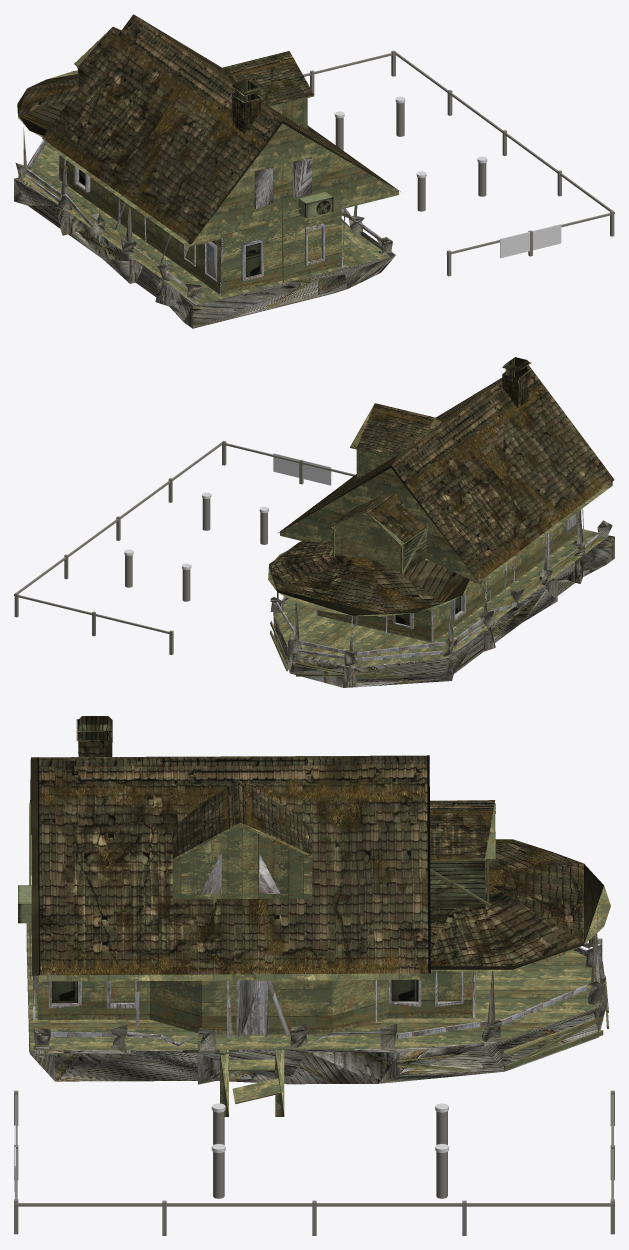
3 views of the same model, one above another, from view 1: azimuth 30°, elevation 25°; view 2: azimuth 150°, elevation 25°; view 3: azimuth 270°, elevation 25° (orthographic). The views are drawn at different scales.
Visible parts, largest first — view 1: dweller_building_training; view 2: dweller_building_training; view 3: dweller_building_training.
Part boxes in pixels (left/top/right/bottom): dweller_building_training: left=14, top=14, right=614, bottom=328; dweller_building_training: left=14, top=357, right=614, bottom=687; dweller_building_training: left=14, top=716, right=614, bottom=1235.
Size of the model in its own units: 20.88 by 9.99 by 18.84.
Materials: 6 (4 with a texture image).
